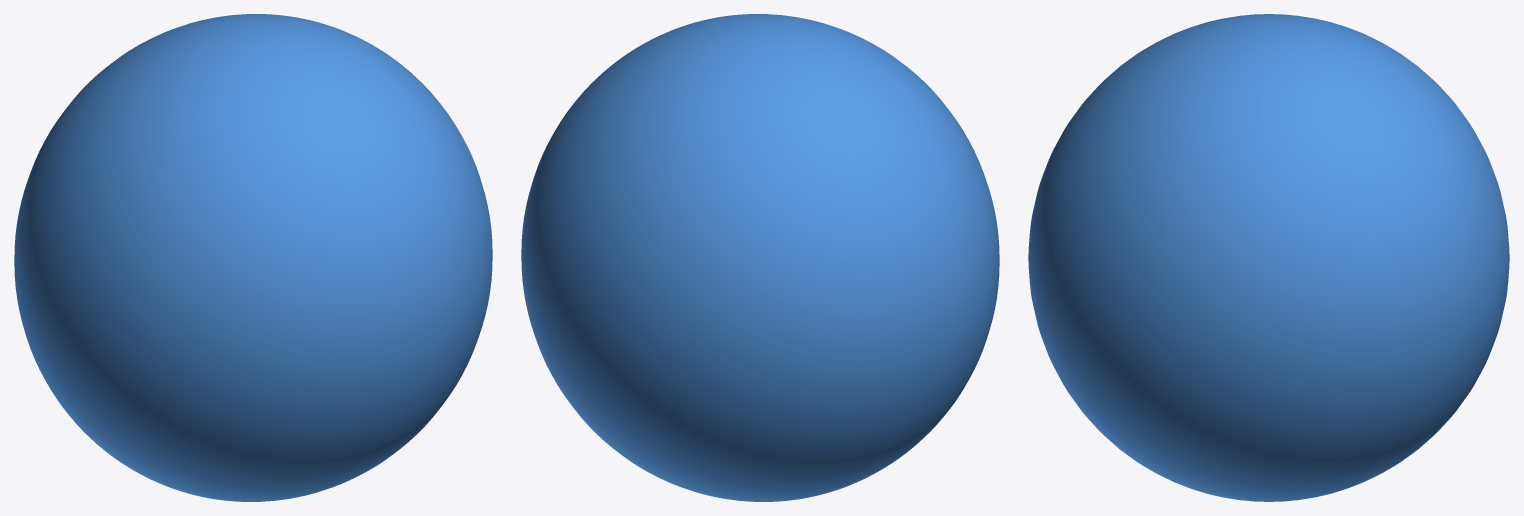
The picture shows the model from 3 angles, left to right: view 1: azimuth 30°, elevation 25°; view 2: azimuth 150°, elevation 25°; view 3: azimuth 270°, elevation 25°; orthographic projection.
Visible parts, largest first — view 1: orbinside3.001; view 2: orbinside3.001; view 3: orbinside3.001.
Boxes of the visible parts, x1=… form: orbinside3.001: x1=14, y1=14, x2=492, y2=501; orbinside3.001: x1=521, y1=14, x2=999, y2=501; orbinside3.001: x1=1028, y1=14, x2=1509, y2=501.
Size of the model in its own units: 0.3888 by 0.397 by 0.3881.
